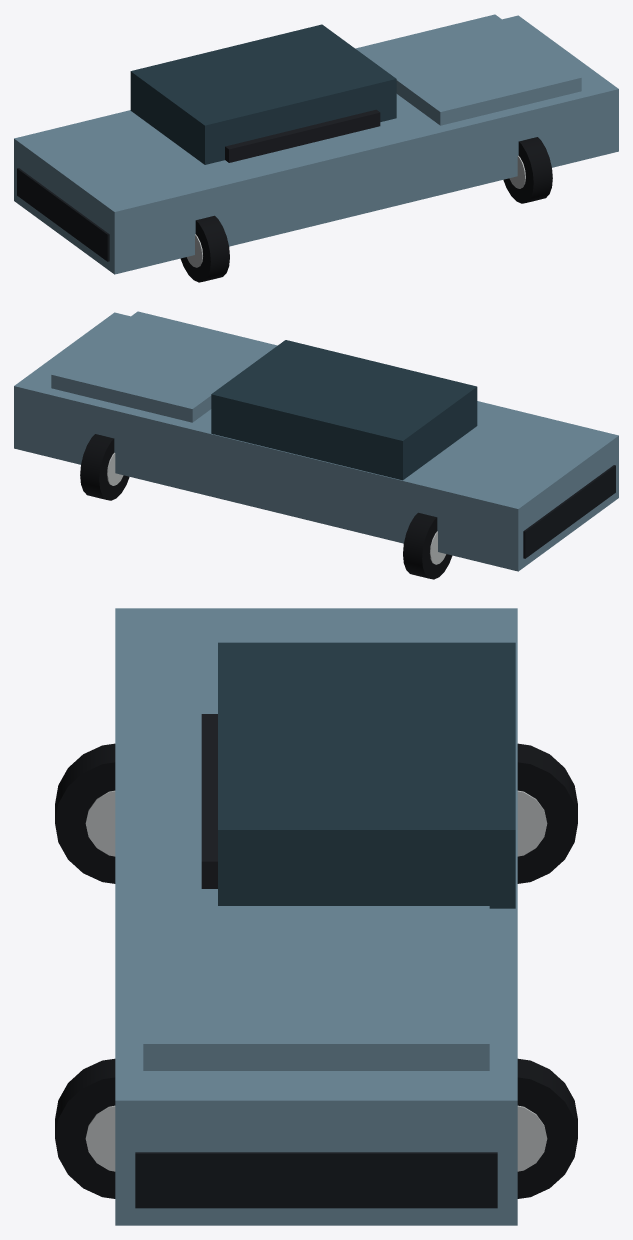
Rendered from rr_boat_tail.glb.
3 views of the same model, one above another, from view 1: azimuth 30°, elevation 25°; view 2: azimuth 150°, elevation 25°; view 3: azimuth 270°, elevation 25° (orthographic). The views are drawn at different scales.
Parts seen in each view (by area): view 1: body, cabin, hood, interior, rear_bumper, front_right_wheel, rear_right_wheel; view 2: body, cabin, hood, rear_bumper, front_left_wheel, rear_left_wheel; view 3: body, cabin, hood, front_bumper, front_left_wheel, front_right_wheel, rear_left_wheel, rear_right_wheel, interior.
Part boxes in pixels (x1=…): body: x1=14, y1=15, x2=618, y2=274; cabin: x1=130, y1=24, x2=396, y2=164; hood: x1=355, y1=14, x2=581, y2=125; interior: x1=225, y1=109, x2=380, y2=162; rear_bumper: x1=17, y1=168, x2=109, y2=261; front_right_wheel: x1=503, y1=137, x2=552, y2=203; rear_right_wheel: x1=180, y1=215, x2=229, y2=282; body: x1=14, y1=312, x2=618, y2=571; cabin: x1=211, y1=340, x2=477, y2=480; hood: x1=51, y1=311, x2=277, y2=422; rear_bumper: x1=523, y1=465, x2=615, y2=558; front_left_wheel: x1=80, y1=434, x2=129, y2=500; rear_left_wheel: x1=403, y1=512, x2=452, y2=579; body: x1=115, y1=608, x2=517, y2=1225; cabin: x1=218, y1=642, x2=515, y2=908; hood: x1=143, y1=906, x2=489, y2=1070; front_bumper: x1=135, y1=1152, x2=497, y2=1208; front_left_wheel: x1=517, y1=1058, x2=577, y2=1198; front_right_wheel: x1=55, y1=1058, x2=115, y2=1198; rear_left_wheel: x1=517, y1=743, x2=577, y2=883; rear_right_wheel: x1=55, y1=743, x2=115, y2=883; interior: x1=201, y1=714, x2=217, y2=888.
Size of the model in its own units: 5.83 by 1.41 by 2.6.
